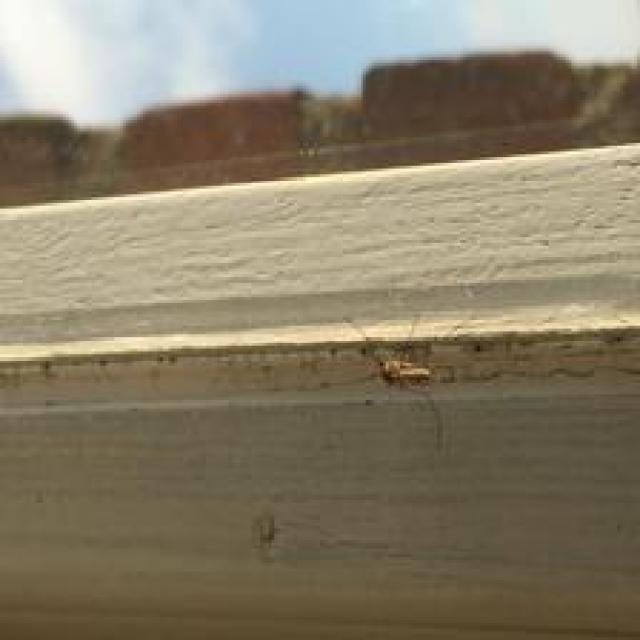Culex: (376, 354, 433, 389)
